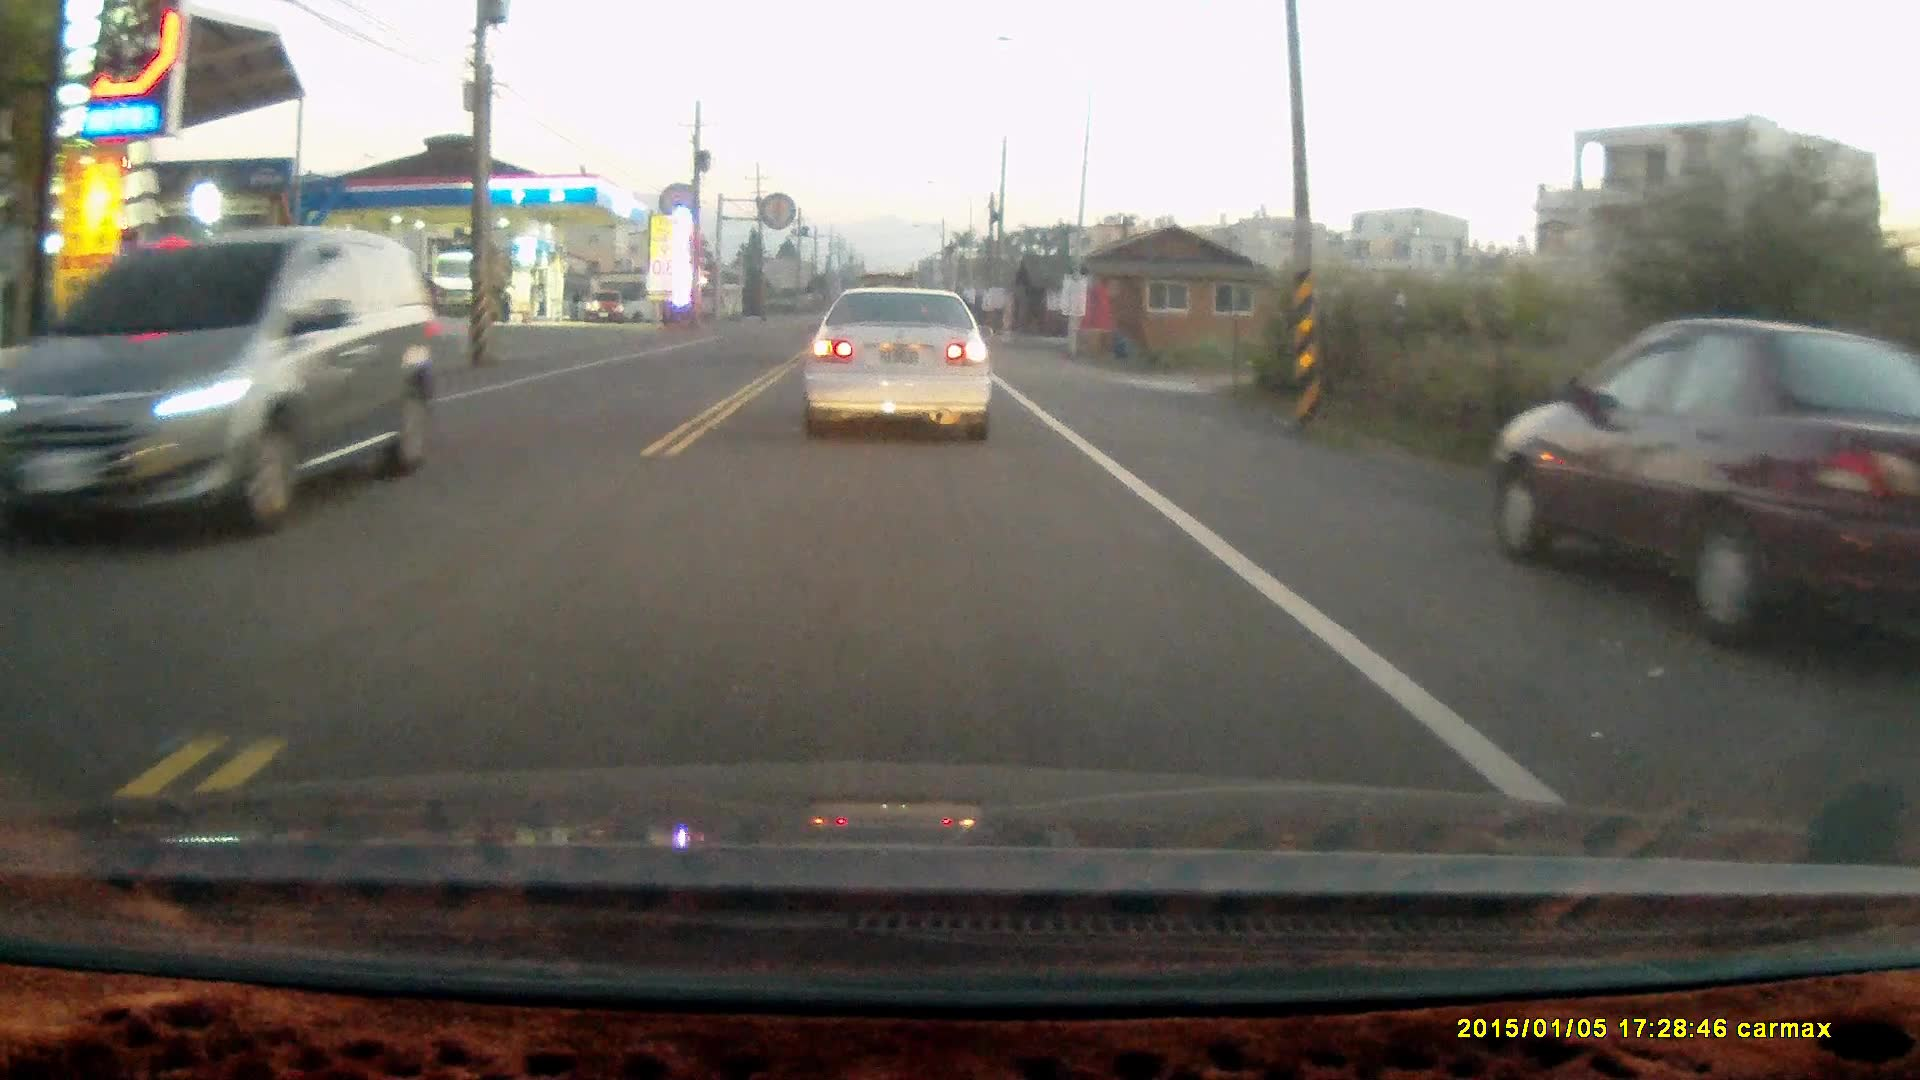pedestrian: (496, 281, 517, 323)
vehicle: (1489, 314, 1916, 703), (1, 230, 453, 534), (796, 281, 995, 441), (586, 289, 626, 325)
